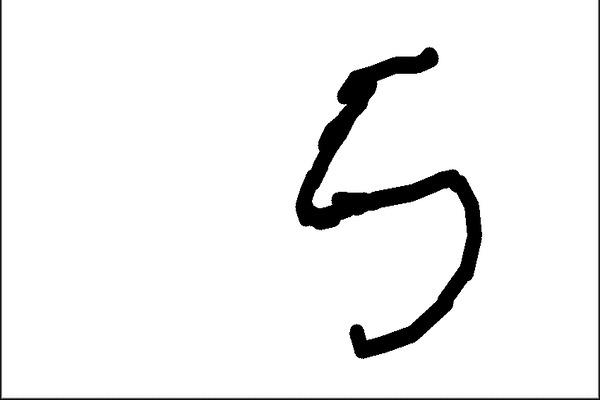S: (291, 43, 488, 362)
